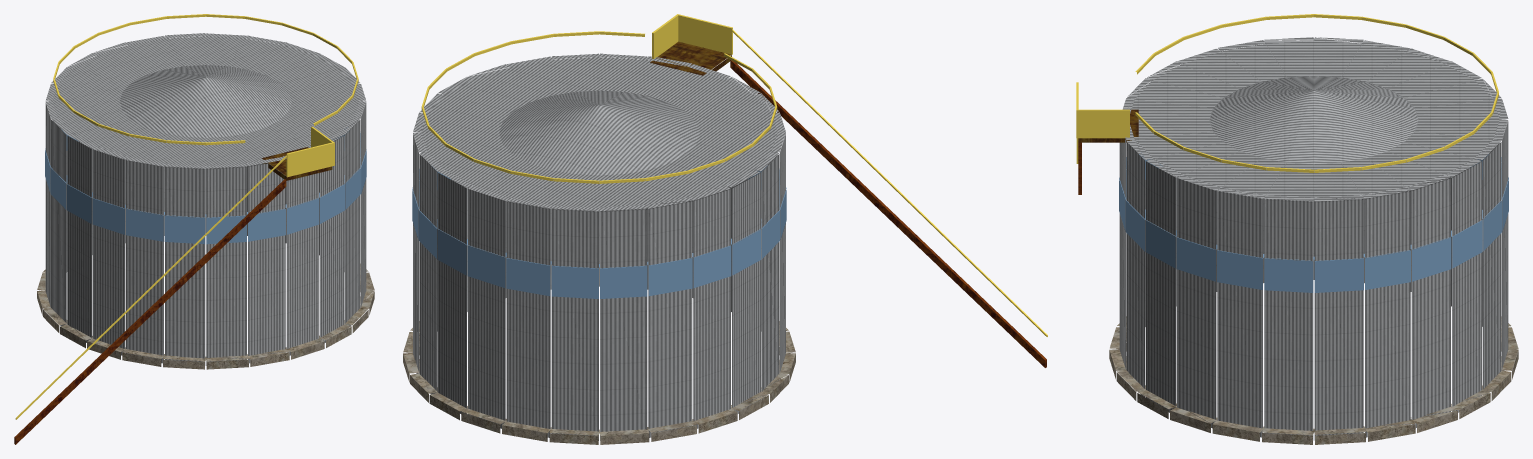
Rendered from ew-tank-grey.zfix-v14.lod1.glb.
3 renders of one model, left to right at view 1: azimuth 30°, elevation 25°; view 2: azimuth 150°, elevation 25°; view 3: azimuth 270°, elevation 25°, orthographic. The views are drawn at different scales.
Parts seen in each view (by area): view 1: ew-tank-grey; view 2: ew-tank-grey; view 3: ew-tank-grey.
Part boxes in pixels (box(x1,y1,x2,y2)): ew-tank-grey: box(14, 14, 374, 444); ew-tank-grey: box(403, 14, 1047, 444); ew-tank-grey: box(1076, 14, 1518, 444).
Size of the model in its own units: 20.76 by 10.35 by 15.13.
Materials: 4 (3 with a texture image).
